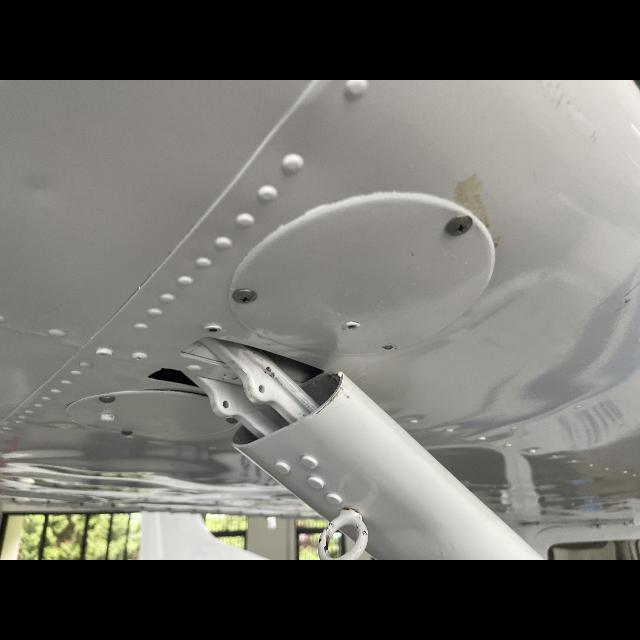Missing Fastener: (379, 341, 397, 353)
